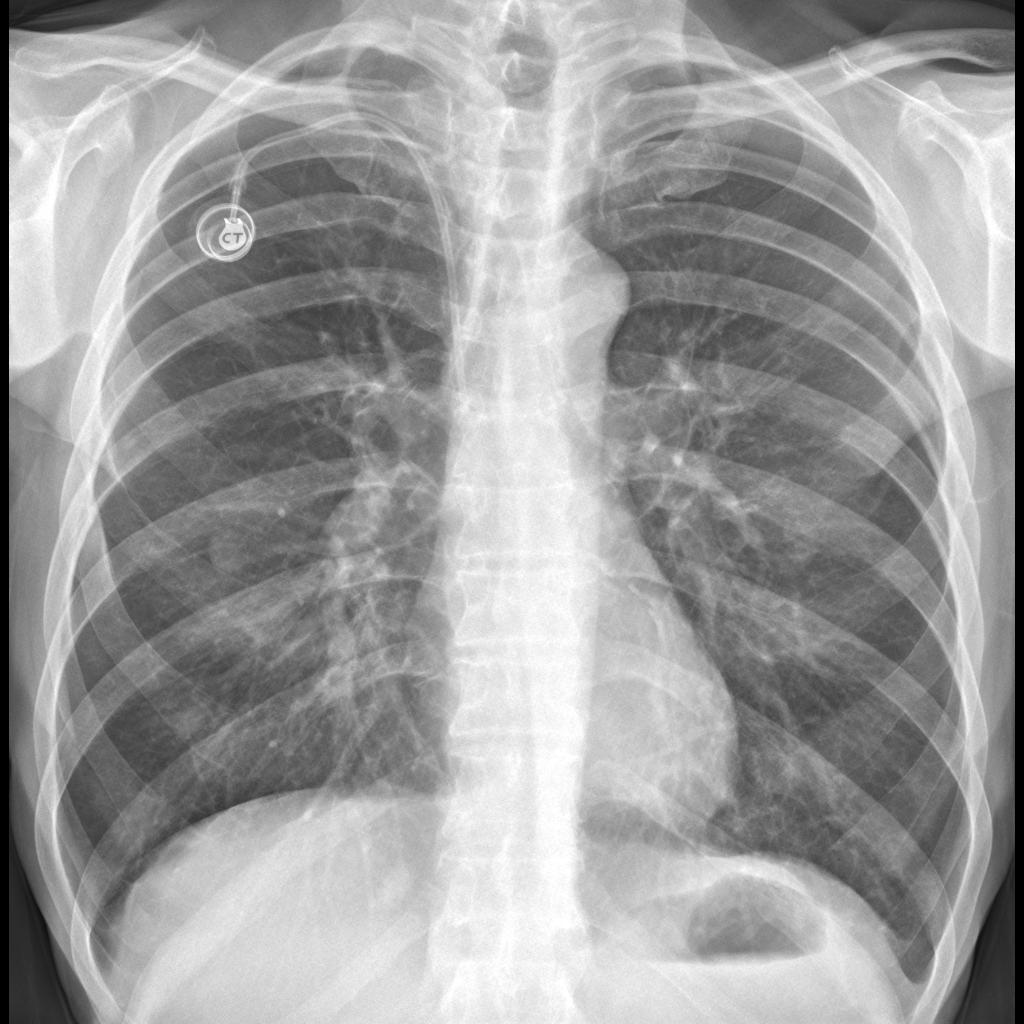Nodule: (189, 512, 266, 592)
